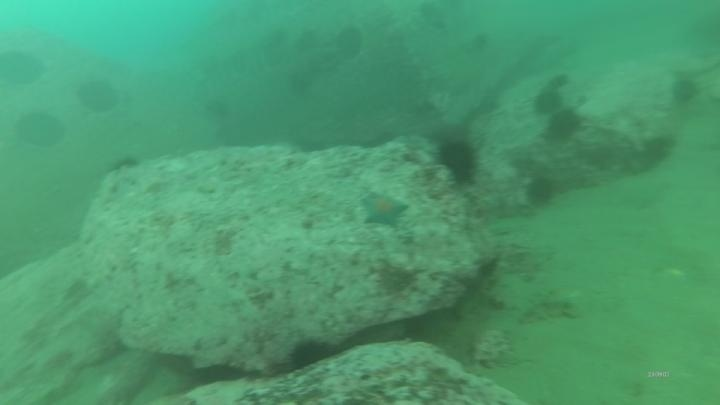echinus: (434, 136, 482, 186), (287, 338, 332, 372), (545, 107, 583, 142), (639, 133, 677, 168), (523, 174, 558, 209), (669, 75, 702, 108), (103, 152, 143, 179), (531, 87, 564, 118), (546, 71, 572, 92)
holothurian: (515, 291, 582, 326)
starfish: (359, 189, 410, 229)
